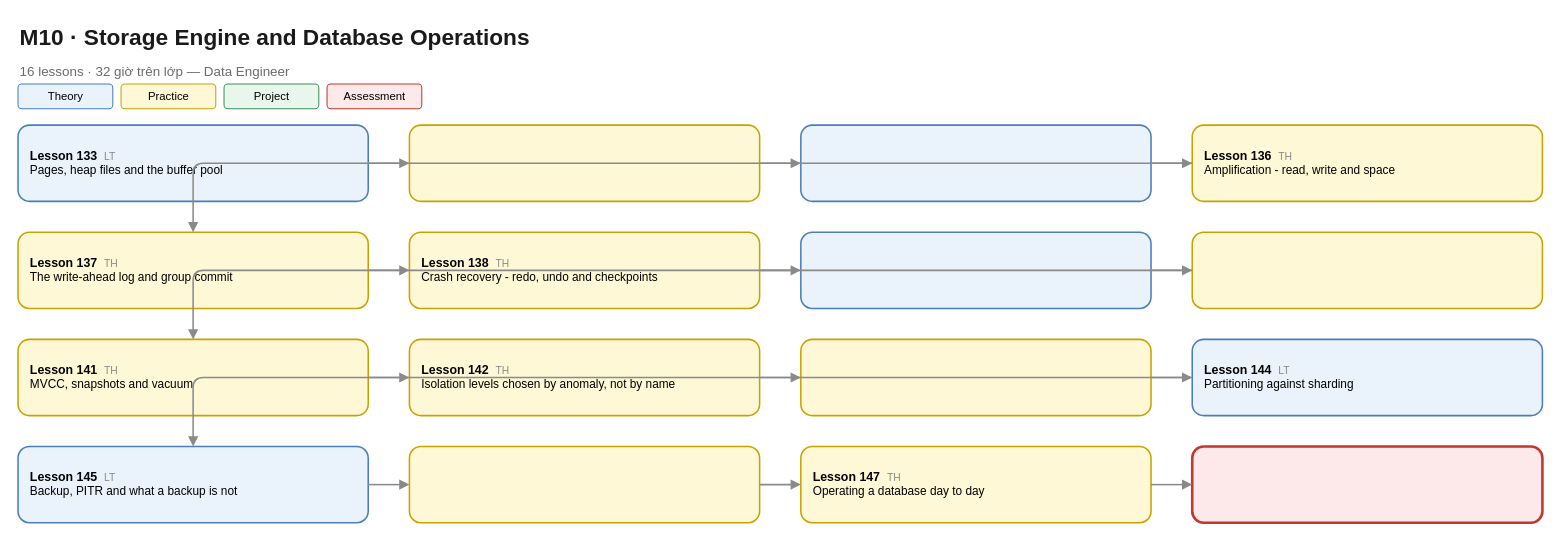
Some shapes in this 1561 by 542 pixel diagram are drawn without their labels. Each missing label, with the centre of its shape:
Lesson 134 TH B-tree internals - fanout, splits and clustering: (584,163)
Lesson 135 LT LSM trees - memtable, SSTable and compaction: (975,163)
Lesson 139 LT ACID and the transaction state machine: (975,270)
Lesson 140 TH Locking, two-phase locking and deadlock detection: (1367,270)
Lesson 143 TH Replication, lag, failover and split brain: (975,377)
Lesson 146 TH The restore drill: (584,484)
Lesson 148 KT Gate 4 - trace a write and defend an isolation choice: (1366,484)
